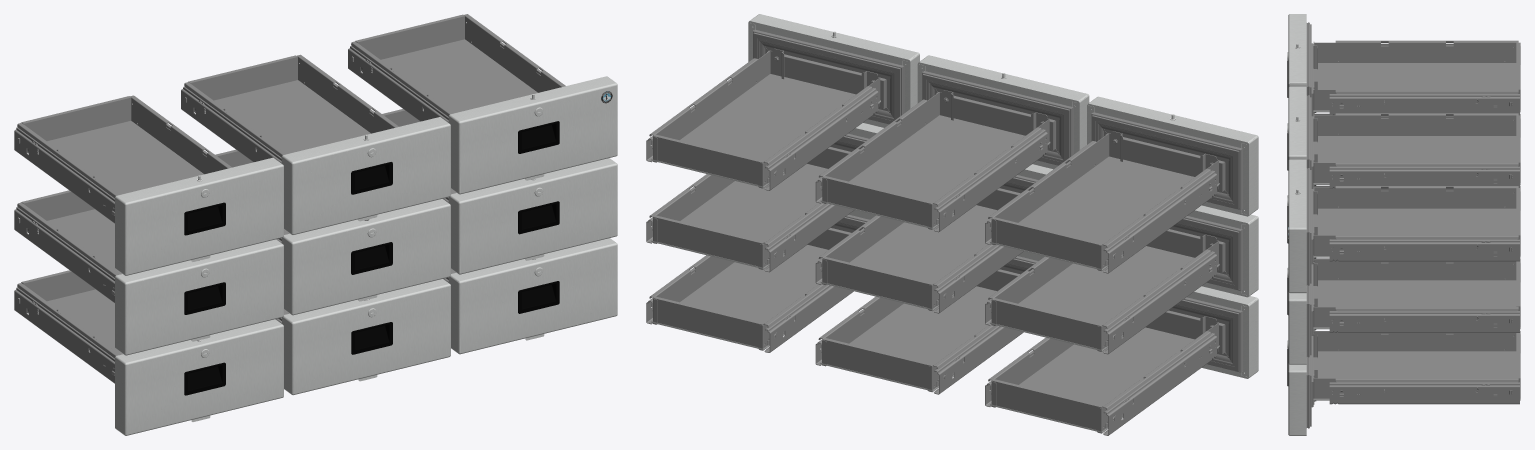
The model's file is drawers-1758529560572-606134855.glb.
3 renders of one model, left to right at view 1: azimuth 30°, elevation 25°; view 2: azimuth 150°, elevation 25°; view 3: azimuth 270°, elevation 25°, orthographic. The views are drawn at different scales.
Visible parts, largest first — view 1: Drawer-01, Drawer-04, Drawer-07, Drawer-03, Drawer-02, Drawer-08, Drawer-05, Drawer-06, Drawer-09; view 2: Drawer-01, Drawer-04, Drawer-07, Drawer-03, Drawer-02, Drawer-08, Drawer-05, Drawer-06, Drawer-09; view 3: Drawer-07, Drawer-01, Drawer-04, Drawer-08, Drawer-09.
Part boxes in pixels (x1,y1,x2,y2): Drawer-01: (14, 95, 283, 275); Drawer-04: (181, 54, 450, 234); Drawer-07: (348, 14, 617, 194); Drawer-03: (14, 270, 283, 435); Drawer-02: (14, 190, 283, 355); Drawer-08: (382, 109, 617, 274); Drawer-05: (215, 149, 450, 315); Drawer-06: (275, 279, 450, 395); Drawer-09: (443, 238, 617, 354); Drawer-01: (985, 96, 1258, 273); Drawer-04: (815, 55, 1089, 232); Drawer-07: (646, 14, 919, 190); Drawer-03: (985, 286, 1258, 435); Drawer-02: (985, 205, 1258, 354); Drawer-08: (646, 123, 883, 272); Drawer-05: (815, 164, 1052, 313); Drawer-06: (815, 251, 1044, 394); Drawer-09: (646, 210, 875, 352); Drawer-07: (1287, 159, 1520, 293); Drawer-01: (1287, 14, 1520, 116); Drawer-04: (1287, 86, 1520, 188); Drawer-08: (1287, 259, 1520, 364); Drawer-09: (1287, 331, 1520, 435).
Size of the model in its own units: 1.38 by 0.6481 by 0.6315.
Materials: 17 (11 with a texture image).
